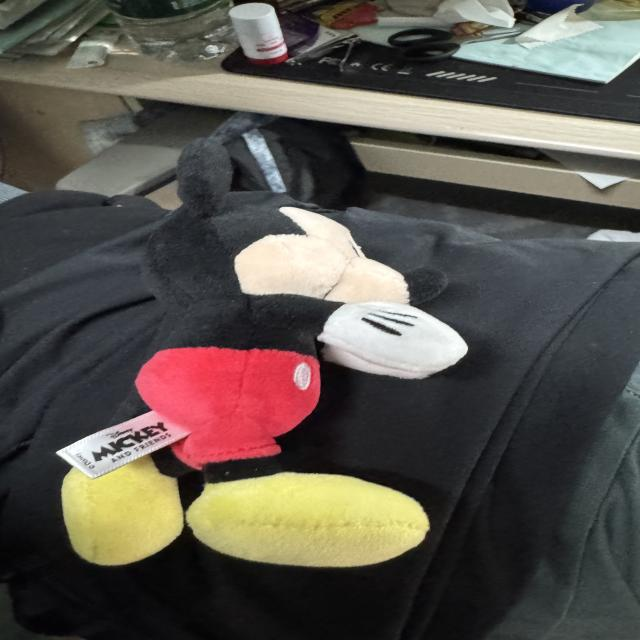mickey: (63, 138, 466, 566)
